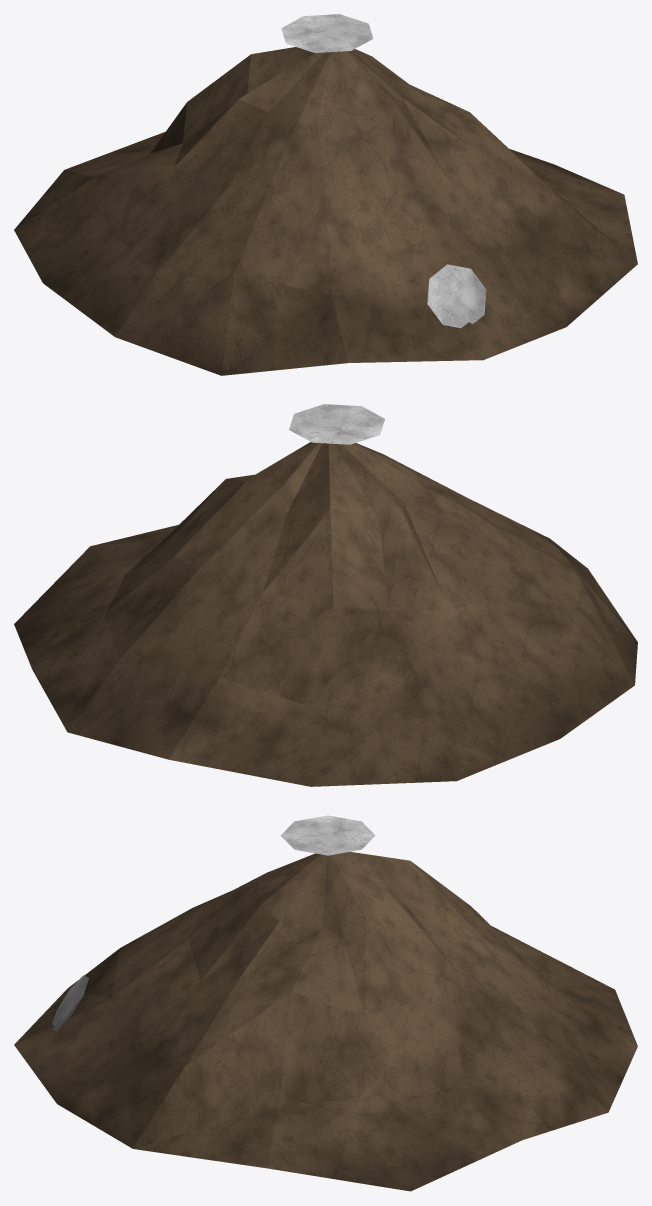
File: anthill.glb
3 views of the same model, one above another, from view 1: azimuth 30°, elevation 25°; view 2: azimuth 150°, elevation 25°; view 3: azimuth 270°, elevation 25° (orthographic). The views are drawn at different scales.
Parts seen in each view (by area): view 1: anthill; view 2: anthill; view 3: anthill.
Boxes of the visible parts, box(x1,y1,x2,y2) form: anthill: box(14, 14, 637, 375); anthill: box(14, 404, 637, 786); anthill: box(14, 815, 637, 1191).
Bounding box in the file's own units: 17.52 × 7.36 × 18.37.
Materials: 2 (2 with a texture image).
